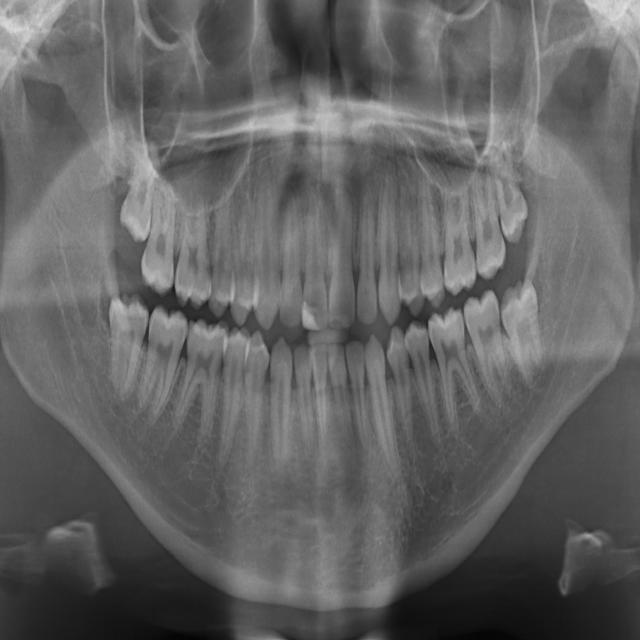CompositeResinRestoration: (301, 302, 320, 335)
